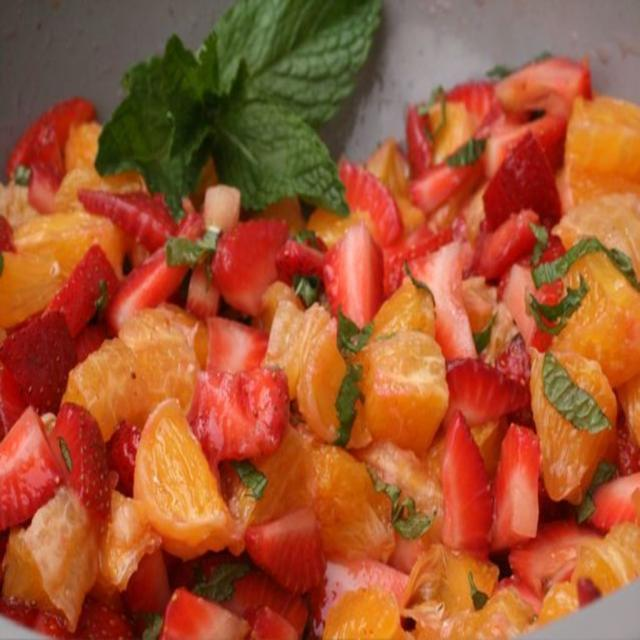Strawberry: (102, 210, 207, 340), (185, 361, 287, 466), (47, 398, 117, 547), (481, 125, 563, 241), (1, 303, 76, 419), (0, 401, 65, 533), (239, 505, 329, 599), (442, 400, 493, 565), (37, 239, 121, 339), (380, 206, 470, 296), (3, 93, 95, 179), (510, 517, 606, 597), (441, 355, 531, 439), (216, 215, 286, 322), (488, 419, 540, 557), (74, 183, 177, 251), (498, 260, 563, 367), (336, 155, 404, 255), (324, 218, 384, 330), (498, 51, 594, 119), (202, 556, 295, 626), (490, 320, 540, 437), (156, 580, 253, 639), (497, 234, 567, 309), (487, 114, 563, 182), (407, 145, 474, 220), (375, 223, 433, 305), (477, 209, 541, 279), (202, 313, 273, 375), (586, 464, 639, 534), (26, 123, 62, 219), (274, 227, 329, 289), (0, 362, 35, 446), (0, 595, 68, 638), (442, 81, 503, 128), (74, 590, 132, 638), (406, 101, 438, 178), (110, 422, 143, 496), (241, 597, 297, 639), (186, 253, 219, 319), (616, 416, 639, 475)
